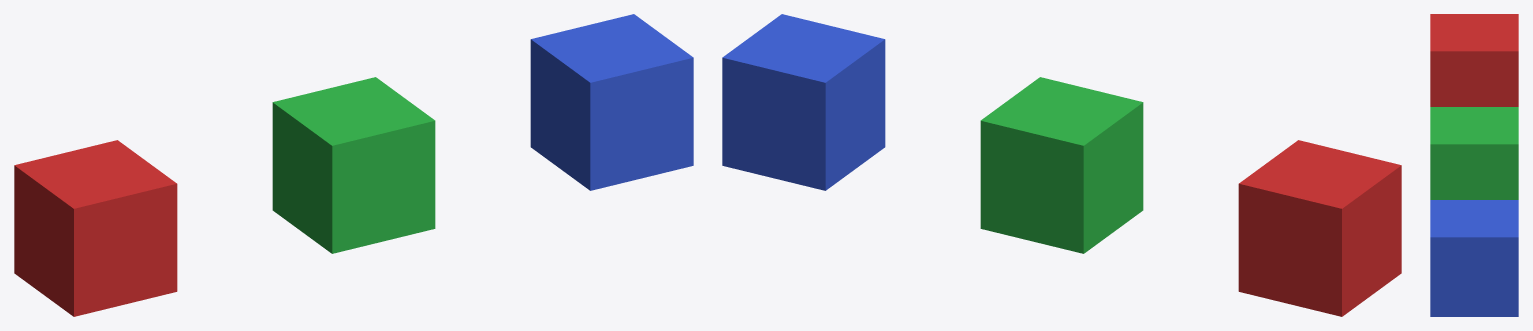
Rendered from shapes.obj.
The picture shows the model from 3 angles, left to right: view 1: azimuth 30°, elevation 25°; view 2: azimuth 150°, elevation 25°; view 3: azimuth 270°, elevation 25°; orthographic projection. The views are drawn at different scales.
Bounding box in the file's own units: 6 × 1 × 1.
